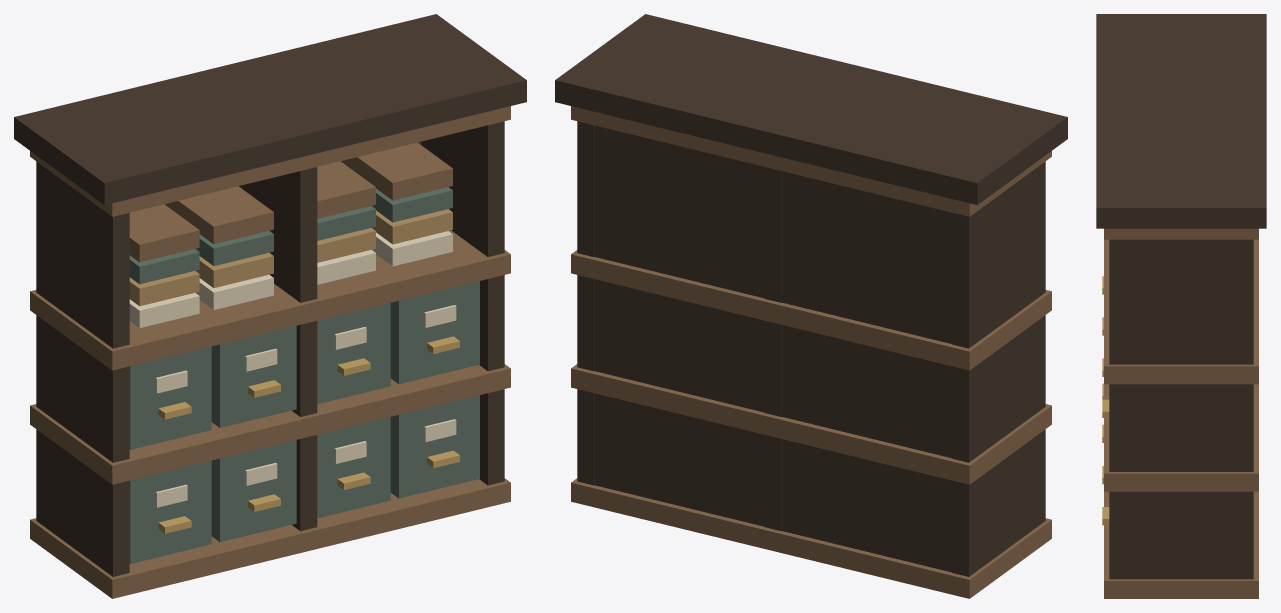
File: 04_Archive_Cabinet.fbx
The picture shows the model from 3 angles, left to right: view 1: azimuth 30°, elevation 25°; view 2: azimuth 150°, elevation 25°; view 3: azimuth 270°, elevation 25°; orthographic projection. The views are drawn at different scales.
Visible parts, largest first — view 1: Structure.003; view 2: Structure.003; view 3: Structure.003.
Boxes of the visible parts, x1=… form: Structure.003: x1=14, y1=14, x2=526, y2=598; Structure.003: x1=555, y1=14, x2=1067, y2=598; Structure.003: x1=1096, y1=14, x2=1266, y2=598.
Bounding box in the file's own units: 302 × 288 × 112.
